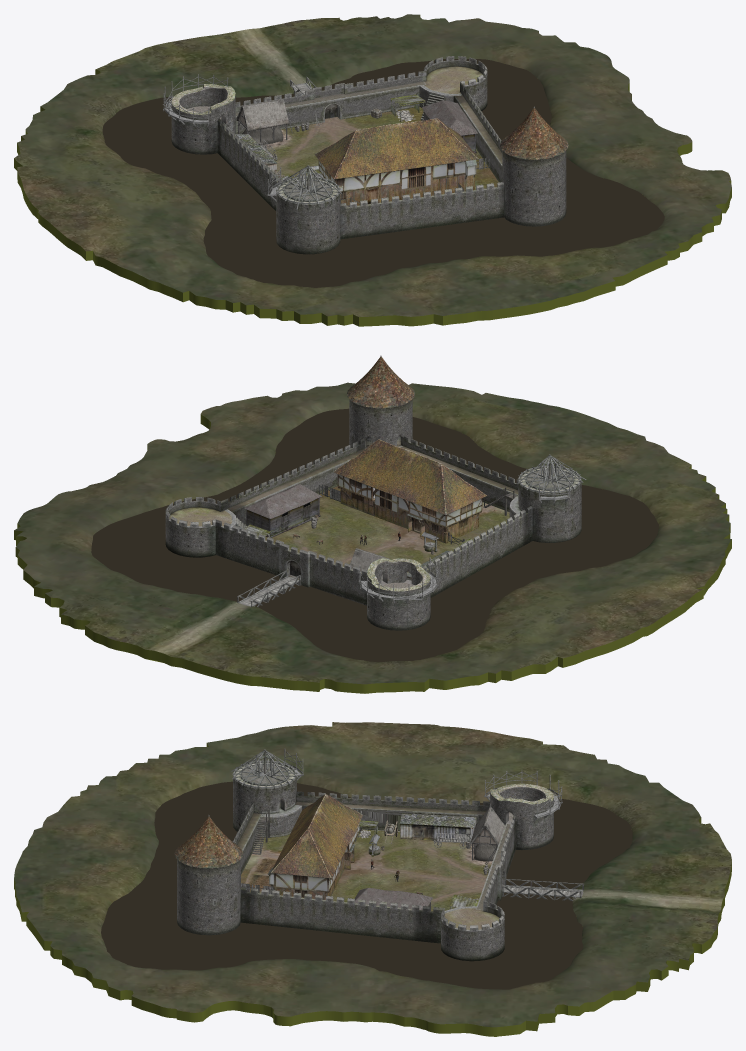
The model's file is optimized_gresham_castle_reconstruction.glb.
3 renders of one model, top to bottom at view 1: azimuth 30°, elevation 25°; view 2: azimuth 150°, elevation 25°; view 3: azimuth 270°, elevation 25°, orthographic.
Visible parts, largest first — view 1: Landscape, Buildings, Water (2); view 2: Landscape, Buildings, Water (2); view 3: Landscape, Buildings, Water (2).
Boxes of the visible parts, bbox=[...] form: Landscape: bbox=[14, 14, 731, 326]; Buildings: bbox=[163, 56, 568, 254]; Water (2): bbox=[102, 59, 664, 287]; Landscape: bbox=[14, 382, 731, 693]; Buildings: bbox=[165, 355, 586, 630]; Water (2): bbox=[91, 408, 658, 661]; Landscape: bbox=[14, 722, 731, 1036]; Buildings: bbox=[174, 748, 584, 961]; Water (2): bbox=[101, 781, 632, 989].
Bounding box in the file's own units: 11967 × 2207 × 12330.
Materials: 16 (14 with a texture image).
